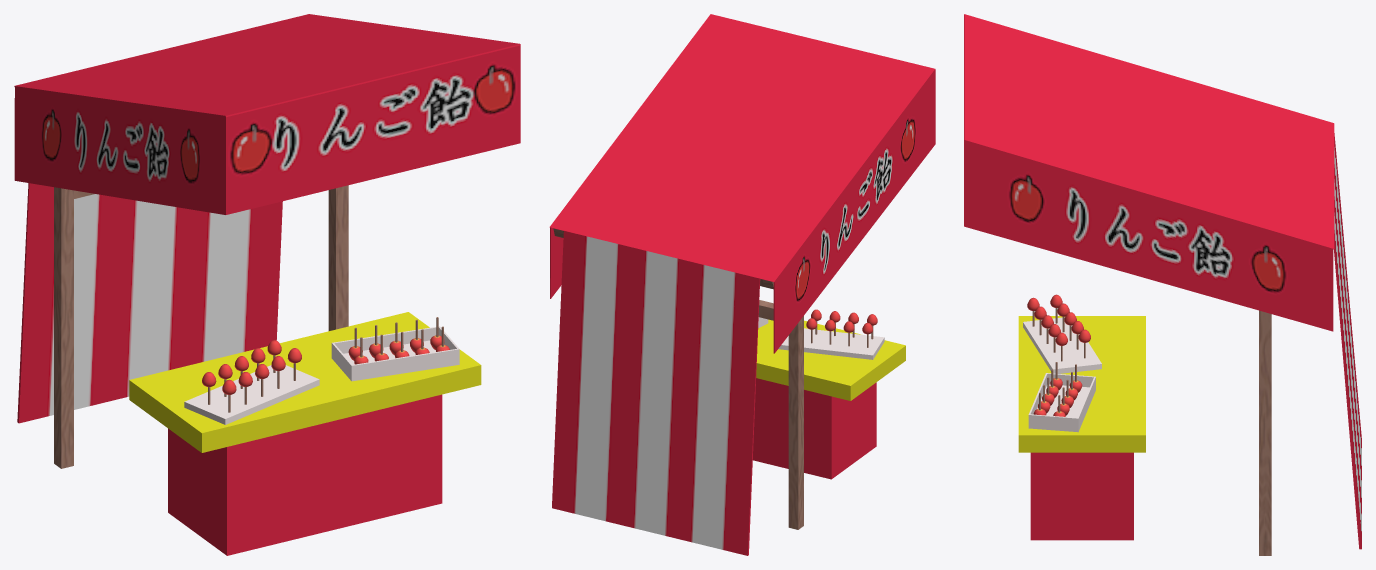
File: Apple Candy.FBX
3 renders of one model, left to right at view 1: azimuth 30°, elevation 25°; view 2: azimuth 150°, elevation 25°; view 3: azimuth 270°, elevation 25°, orthographic. The views are drawn at different scales.
Visible parts, largest first — view 1: Box004; view 2: Box004; view 3: Box004.
Part boxes in pixels (<box>): Box004: <box>14,14,520,555</box>; Box004: <box>549,14,935,555</box>; Box004: <box>964,14,1361,555</box>.
Bounding box in the file's own units: 115 × 178 × 154.
1 material, 1 textured.
